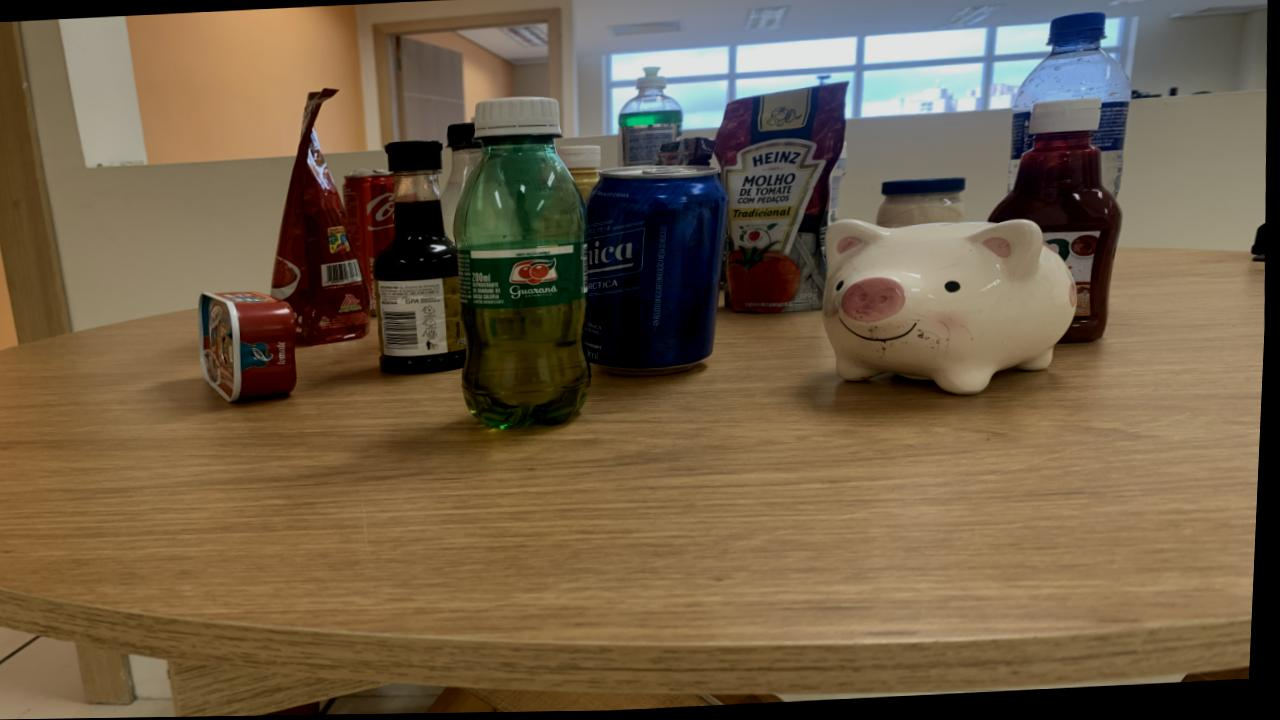Coke-Drinks: (345, 170, 397, 316)
Detergent-Cleanup_Items: (620, 68, 685, 169)
English_Sauce-Pantry_Items: (377, 142, 470, 375)
Guarana-Drinks: (457, 99, 592, 430)
Ketchup-Pantry_Items: (990, 100, 1125, 346)
Mayonnaise-Pantry_Items: (878, 180, 968, 232), (878, 195, 968, 232)
Pig_Safe-Miscellaneous: (825, 222, 1080, 399)
Tomato_Sauce-Pantry_Items: (717, 84, 850, 316), (275, 89, 372, 347)
Tonic-Drinks: (587, 167, 730, 378)
Tuna_Can-Pantry_Items: (202, 293, 300, 403)
Water_Bottle-Drinks: (1010, 16, 1133, 201)
